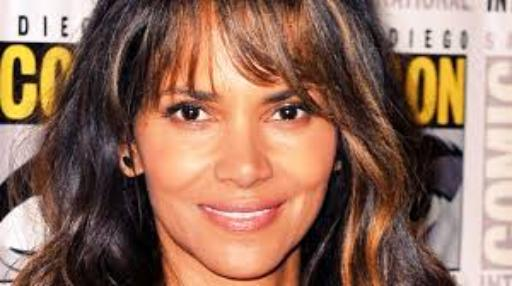left_eye: (266, 105, 318, 125)
left_lip_corner: (277, 198, 294, 209)
right_eye: (165, 105, 218, 125)
right_lip_corner: (189, 200, 216, 213)
